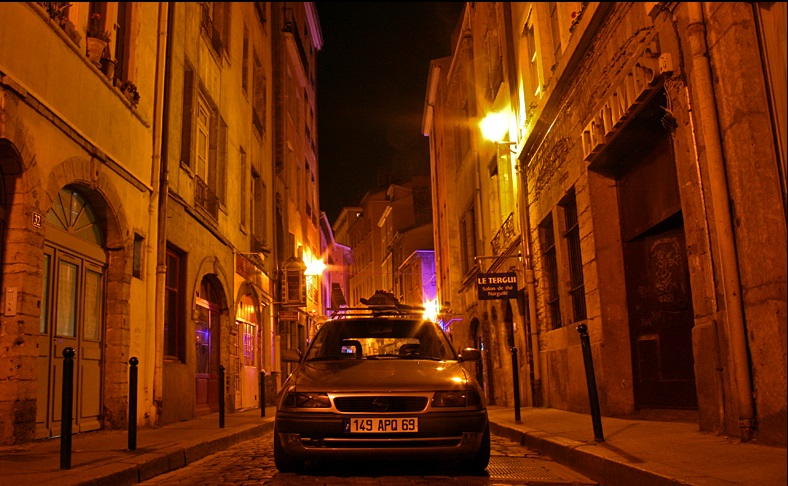car: (267, 308, 504, 482)
